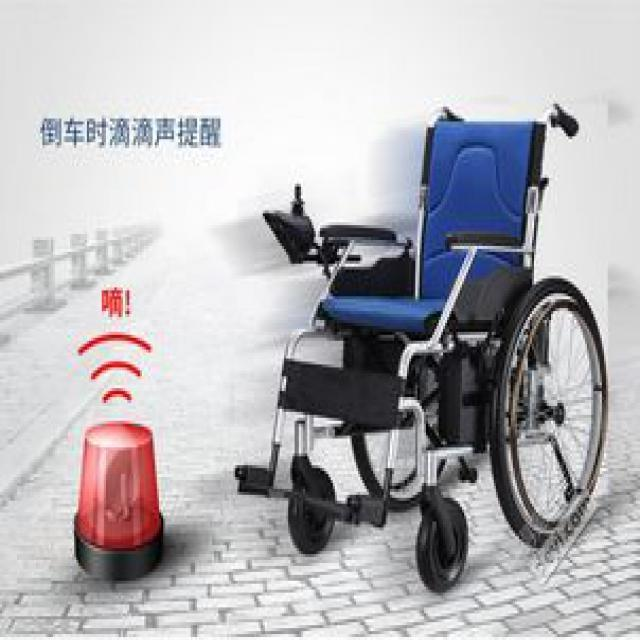wheelchairs: (242, 104, 602, 592)
